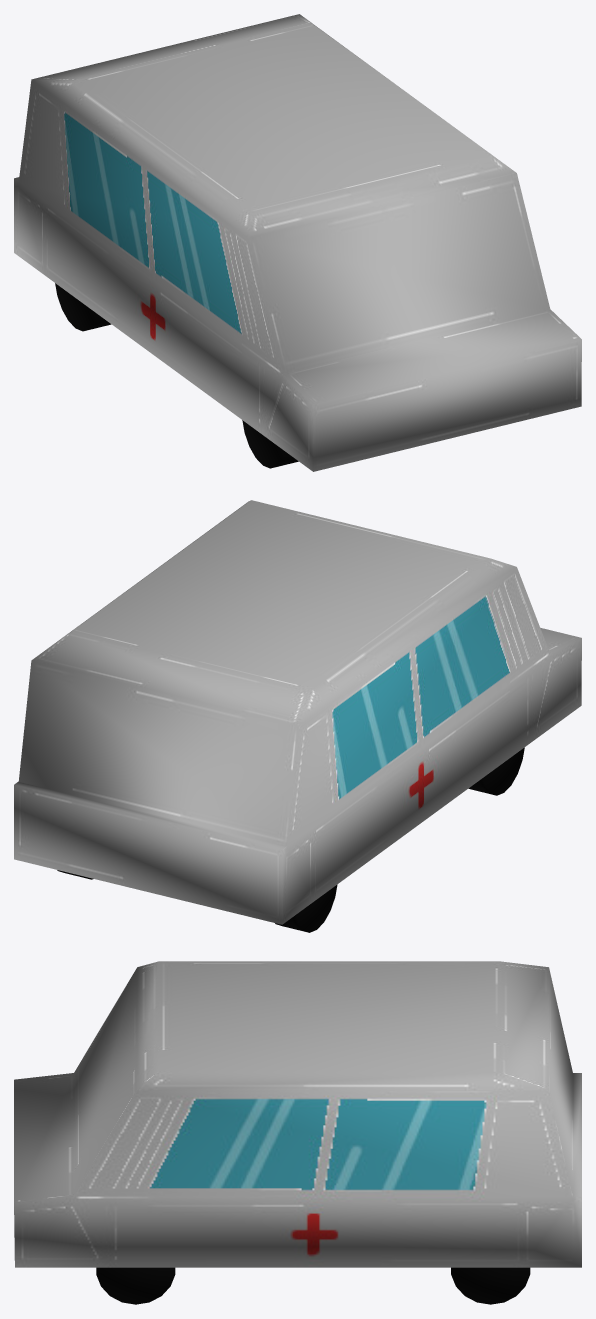
Rendered from hospital_vehicle.obj.
The picture shows the model from 3 angles, top to bottom: view 1: azimuth 30°, elevation 25°; view 2: azimuth 150°, elevation 25°; view 3: azimuth 270°, elevation 25°; orthographic projection. The views are drawn at different scales.
Parts seen in each view (by area): view 1: Box001, Cylinder002, Cylinder001; view 2: Box001, Cylinder002, Cylinder001; view 3: Box001, Cylinder003, Cylinder004.
Part boxes in pixels (x1,y1,x2,y2): Box001: (14, 14, 581, 471); Cylinder002: (55, 283, 111, 331); Cylinder001: (242, 420, 298, 468); Box001: (14, 500, 581, 924); Cylinder002: (275, 884, 337, 932); Cylinder001: (468, 747, 524, 795); Box001: (14, 961, 581, 1267); Cylinder003: (96, 1267, 175, 1304); Cylinder004: (451, 1267, 530, 1304).
Bounding box in the file's own units: 48.44 × 41.92 × 93.78.
